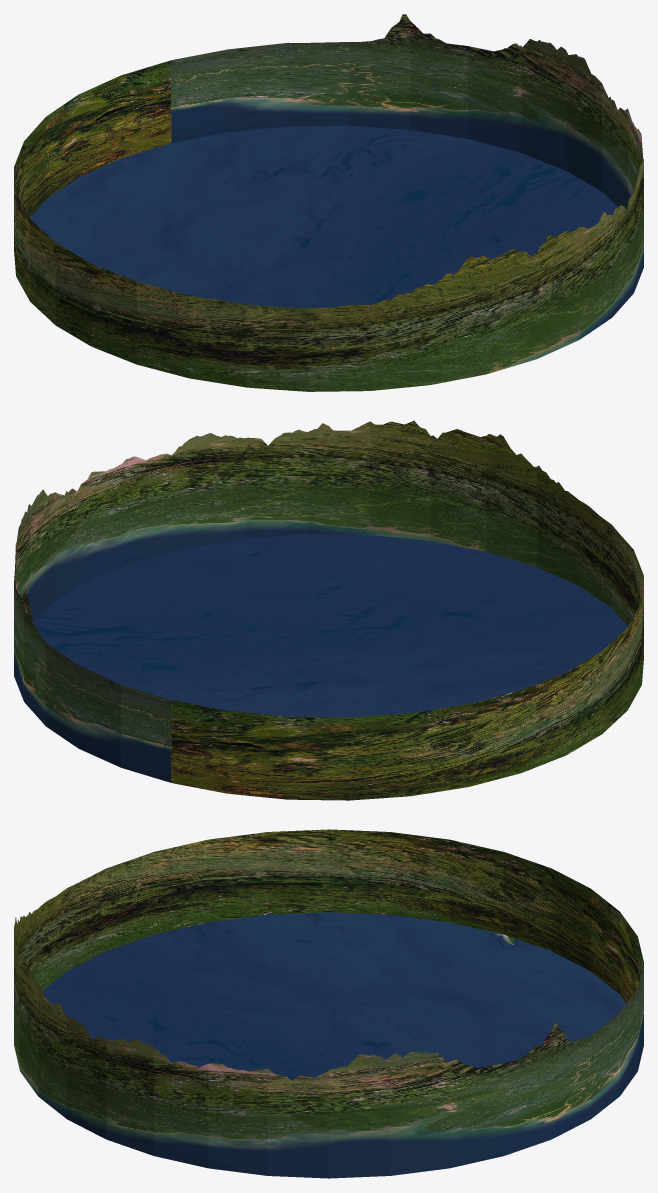
File: pacific_ground.fbx
3 views of the same model, one above another, from view 1: azimuth 30°, elevation 25°; view 2: azimuth 150°, elevation 25°; view 3: azimuth 270°, elevation 25° (orthographic).
Visible parts, largest first — view 1: ground; view 2: ground; view 3: ground.
Part boxes in pixels (bbox=[...]): ground: bbox=[14, 14, 643, 391]; ground: bbox=[14, 420, 643, 800]; ground: bbox=[14, 829, 643, 1178].
Bounding box in the file's own units: 39900 × 8601 × 39900.
Materials: 1 (1 with a texture image).
